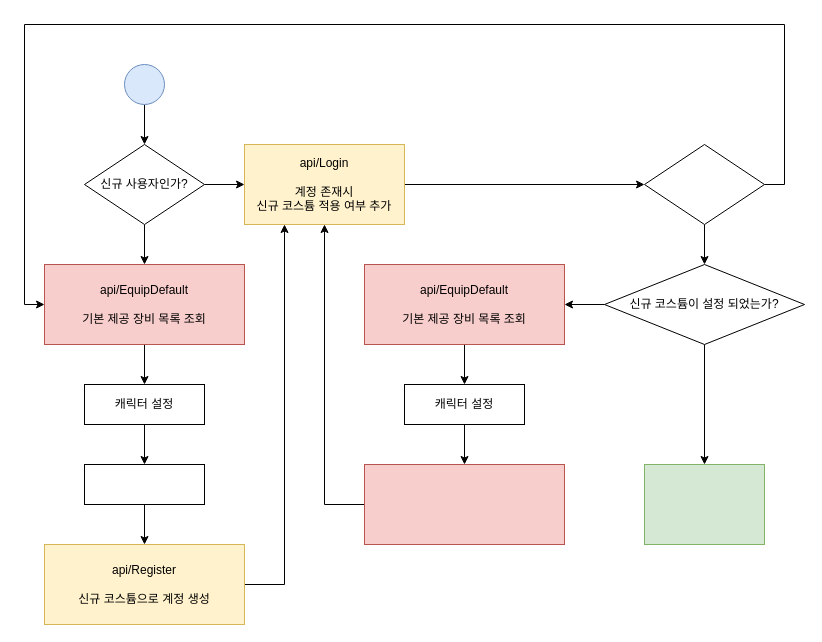
Some shapes in this 822 by 642 pixel diagram are drawn without their labels. Each missing label, with the centre of its shape:
"api/EquipUpdate 신규 코스튬으로 업데이트" belongs at [464,504].
"Lobby Server 접속" belongs at [704,504].
"계정이 존재하는가?" belongs at [704,184].
"닉네임 설정" belongs at [144,484].
